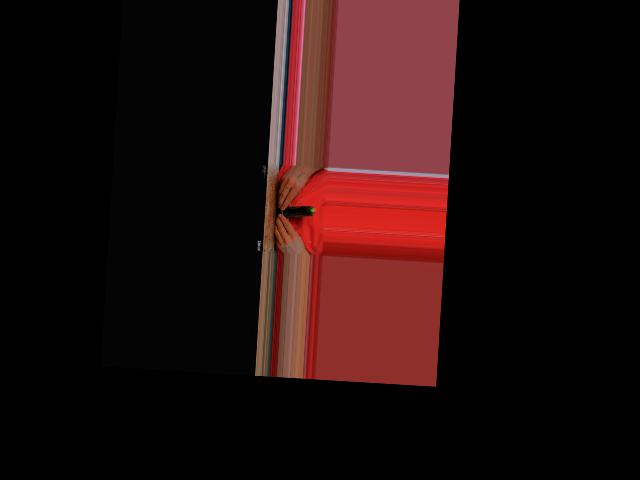cucumber: (275, 203, 315, 218)
